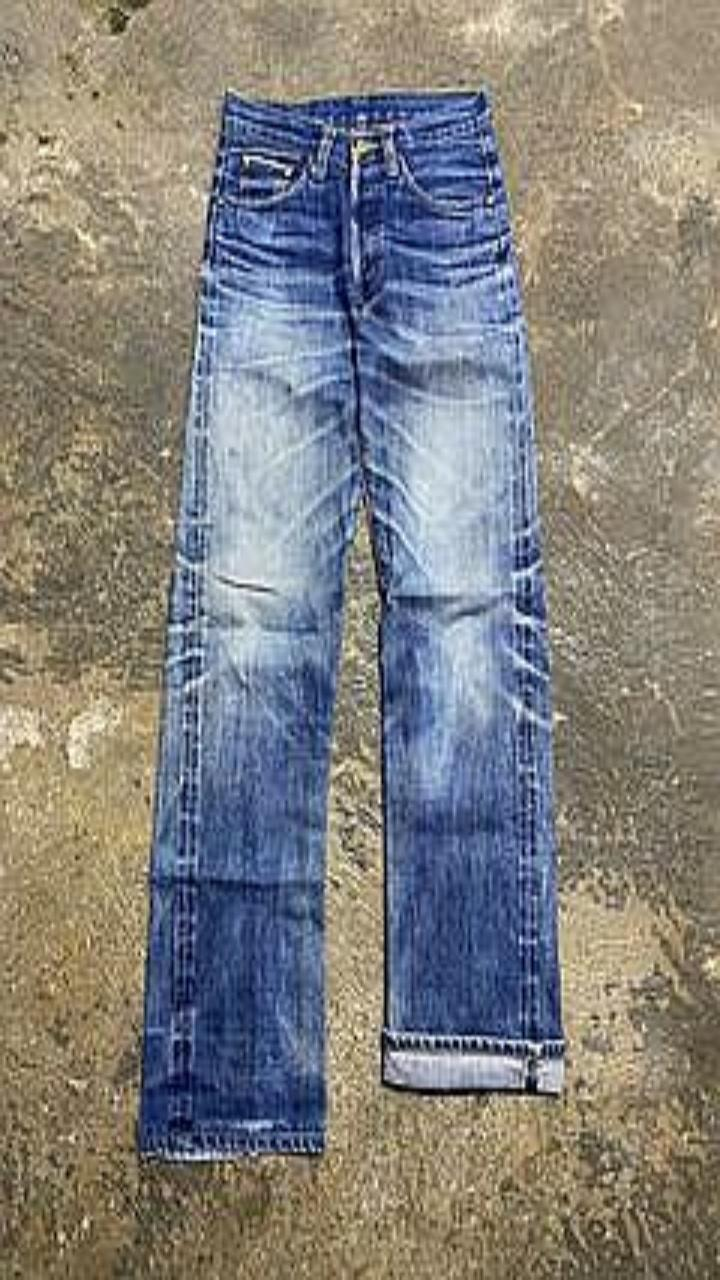Jeans: (137, 88, 565, 1159)
